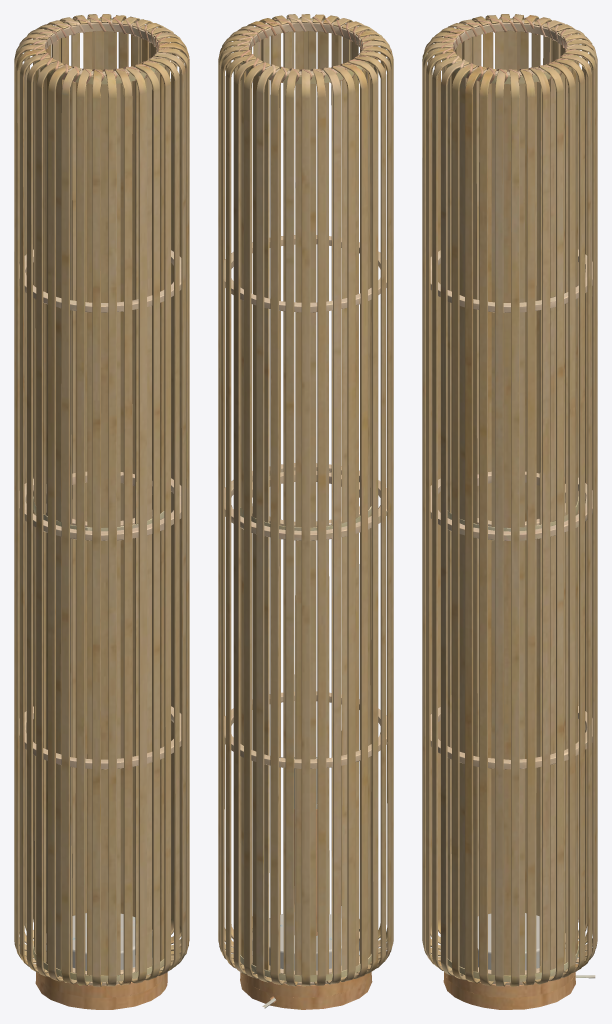
Rendered from varptross_lampa_podogowa_40595131.glb.
3 renders of one model, left to right at view 1: azimuth 30°, elevation 25°; view 2: azimuth 150°, elevation 25°; view 3: azimuth 270°, elevation 25°, orthographic.
Parts seen in each view (by area): view 1: varptross_lampa_podogowa_40595131; view 2: varptross_lampa_podogowa_40595131; view 3: varptross_lampa_podogowa_40595131.
Boxes of the visible parts, x1,y1,x2,y2 form: varptross_lampa_podogowa_40595131: (14, 14, 189, 1009); varptross_lampa_podogowa_40595131: (218, 14, 393, 1009); varptross_lampa_podogowa_40595131: (422, 14, 597, 1009).
Size of the model in its own units: 0.2001 by 1.18 by 0.2002.
1 material, 1 textured.
